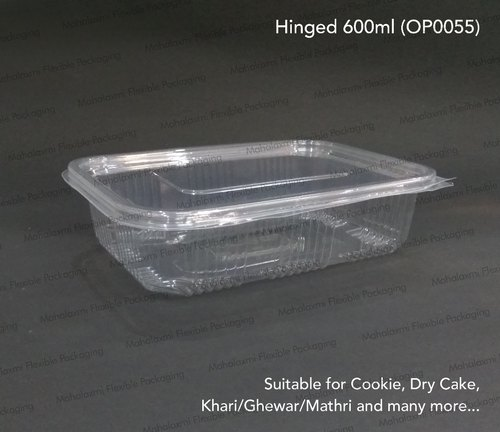PlasticBox: (56, 134, 461, 305)
